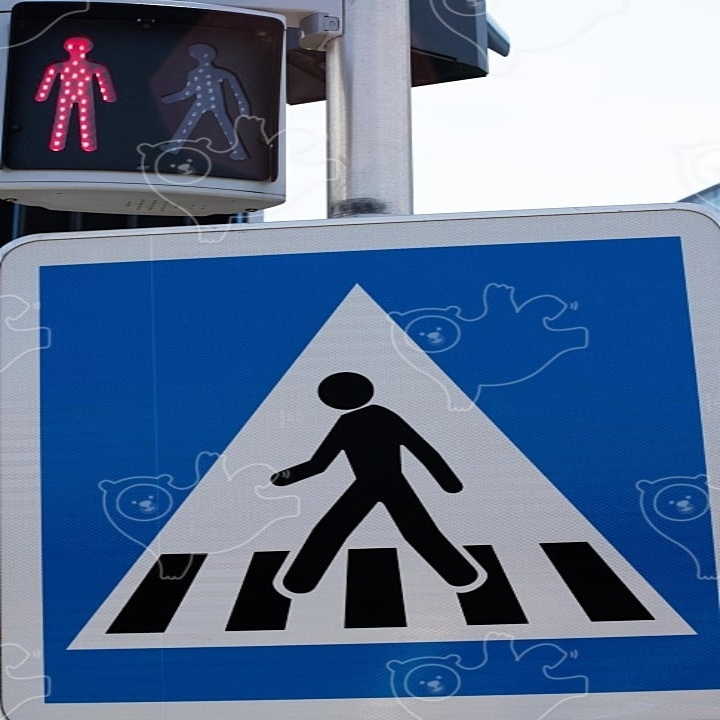cross: (259, 339, 495, 611)
